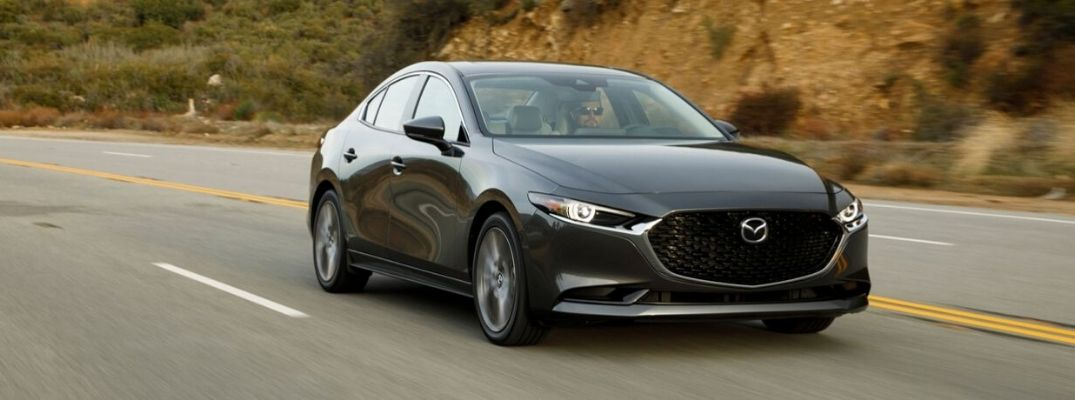car: (306, 59, 871, 347)
